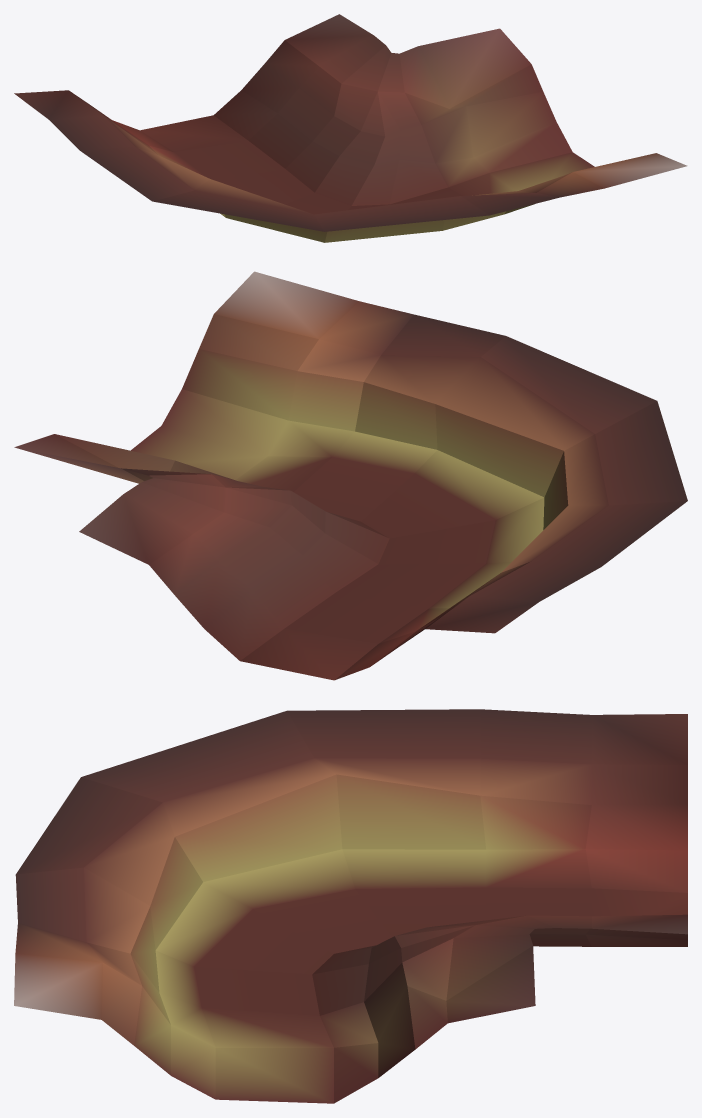
File: terrainRightTurn.fbx
3 views of the same model, one above another, from view 1: azimuth 30°, elevation 25°; view 2: azimuth 150°, elevation 25°; view 3: azimuth 270°, elevation 25° (orthographic). The views are drawn at different scales.
Parts seen in each view (by area): view 1: Plane.001; view 2: Plane.001; view 3: Plane.001.
Part boxes in pixels (<box>): Plane.001: <box>14,14,687,242</box>; Plane.001: <box>14,271,687,680</box>; Plane.001: <box>14,709,687,1103</box>.
Size of the model in its own units: 780 by 127 by 747.
